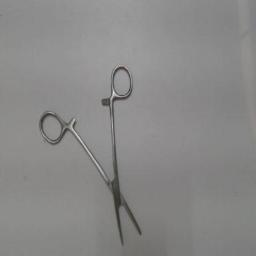Mayo Needle Holder: (36, 61, 148, 251)
